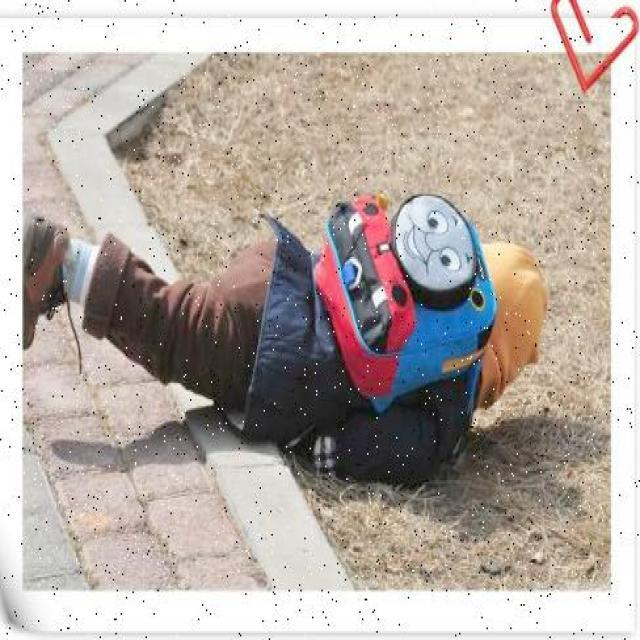fall: (26, 194, 544, 430)
